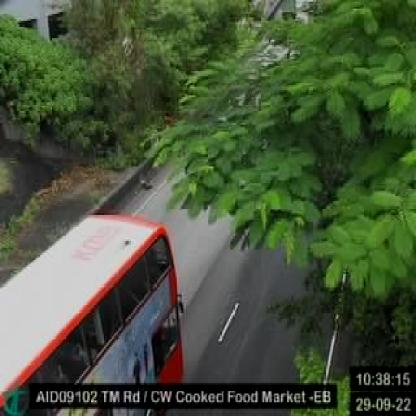Bus: (0, 191, 202, 414)
